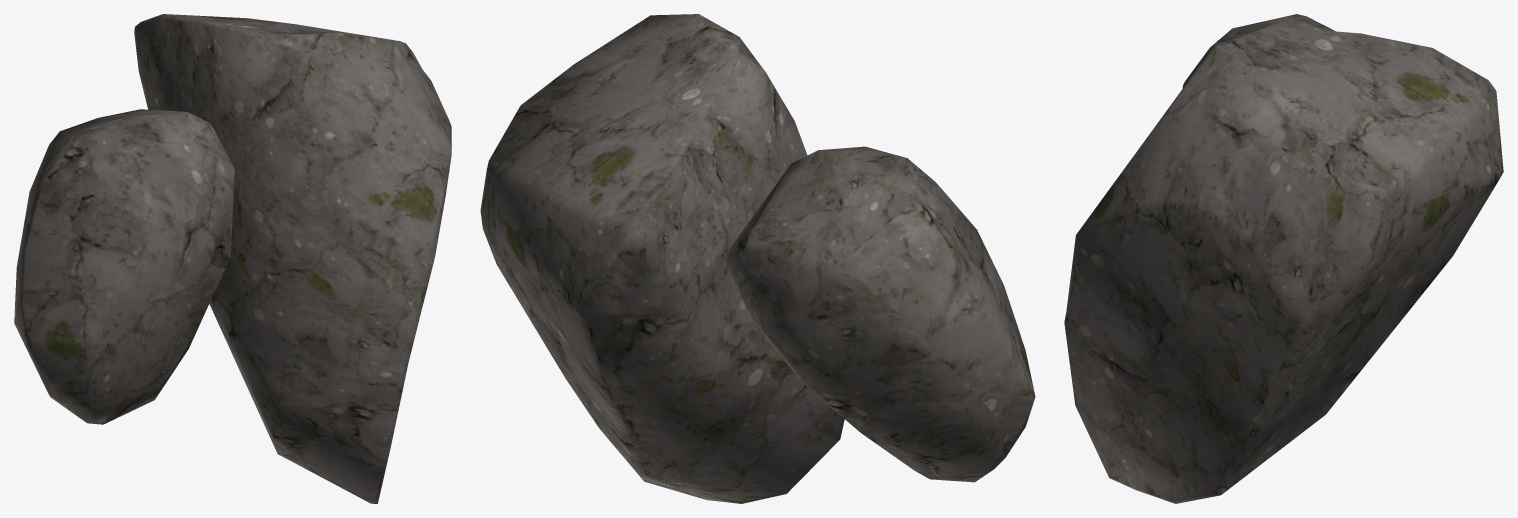
Rendered from rocks_small_01.fbx.
The picture shows the model from 3 angles, left to right: view 1: azimuth 30°, elevation 25°; view 2: azimuth 150°, elevation 25°; view 3: azimuth 270°, elevation 25°; orthographic projection. The views are drawn at different scales.
Parts seen in each view (by area): view 1: GEOM0_LOD0; view 2: GEOM0_LOD0; view 3: GEOM0_LOD0.
Boxes of the visible parts, x1=… form: GEOM0_LOD0: x1=14, y1=14, x2=451, y2=503; GEOM0_LOD0: x1=480, y1=14, x2=1035, y2=503; GEOM0_LOD0: x1=1064, y1=14, x2=1503, y2=503.
Size of what is drawn, in the model's own units: 433 by 414 by 367.
